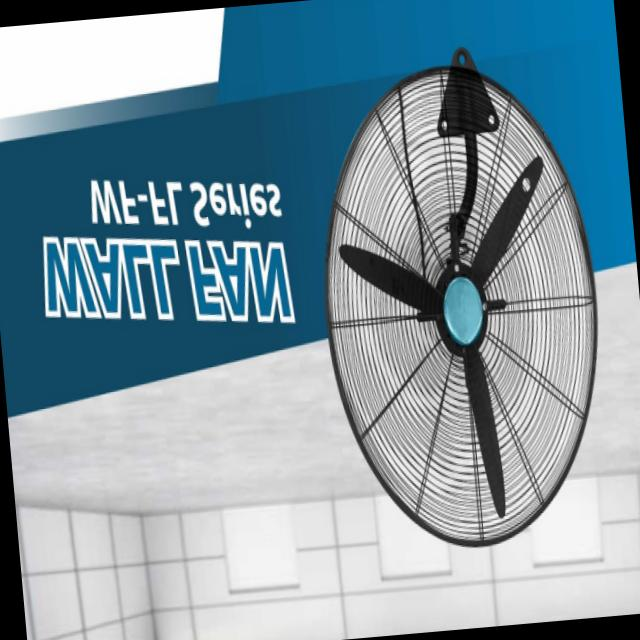fan: (301, 32, 625, 570)
